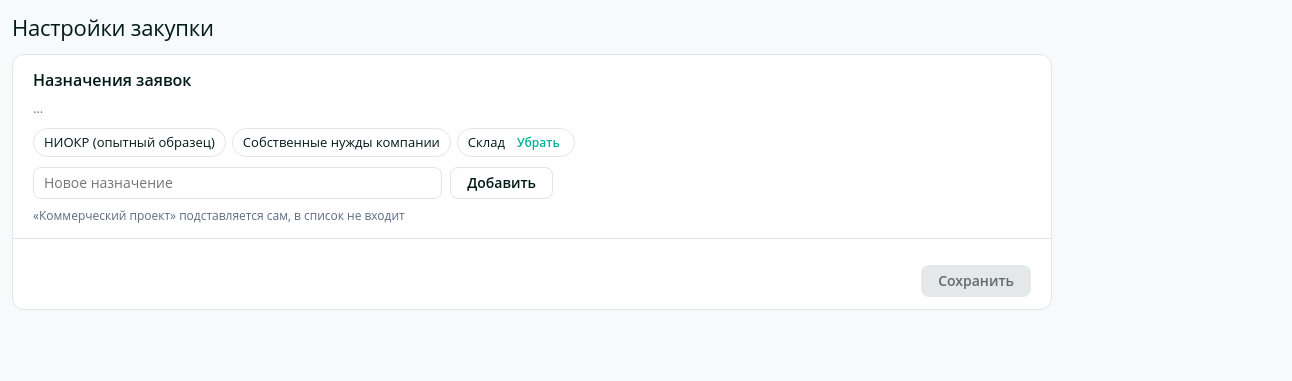
Test case: edits the purposes directory: add, remove, protected RND / FRX stay
Expected: the text "НИОКР (опытный образец)" is shown, x1=44 y1=133 x2=215 y2=151
Expected: the text "Собственные нужды компании" is shown, x1=243 y1=133 x2=440 y2=151
Type "Оснастка и инструмент" into the field labelled "Новое назначение".
click(238, 183); type("Оснастка и инструмент")  # box x1=33 y1=167 x2=442 y2=199
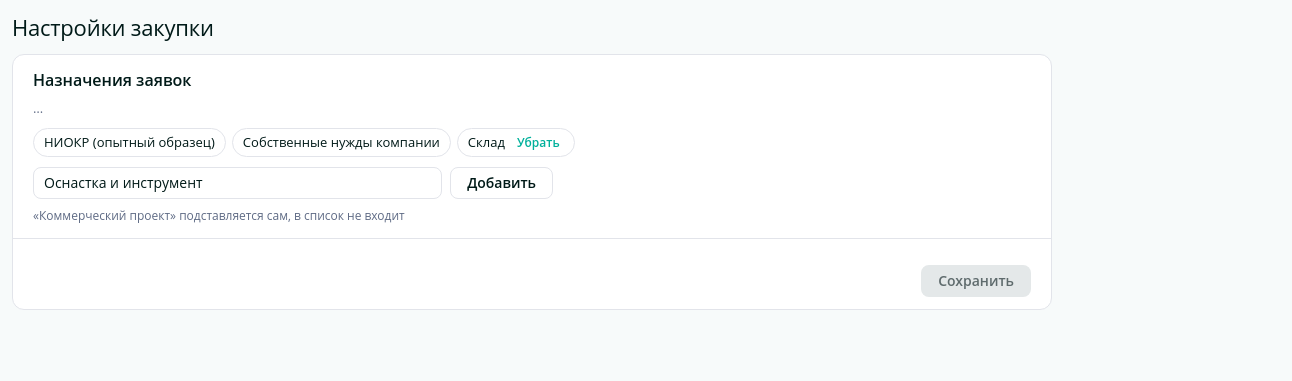
Click the button "Добавить".
click(502, 183)  # box x1=450 y1=167 x2=553 y2=199
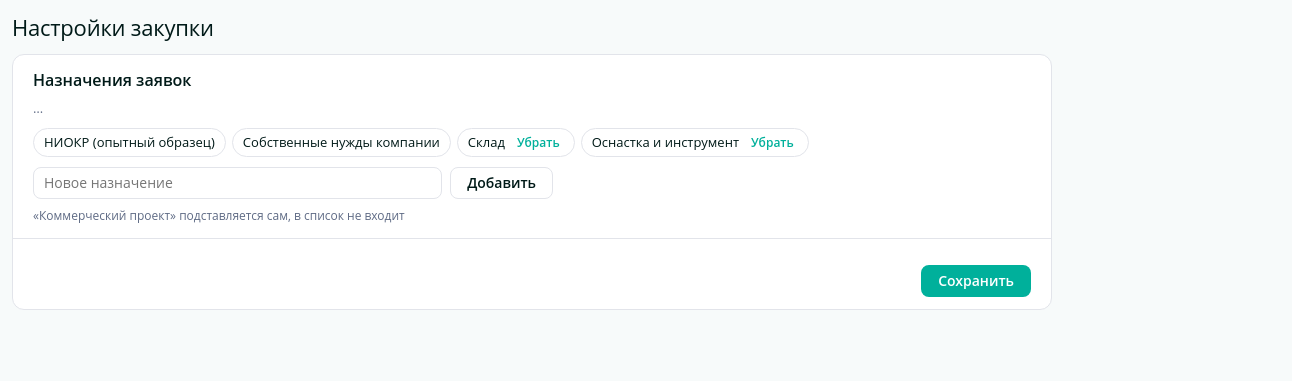
Click the button with aria-label "Убрать назначение Склад".
click(538, 142)  # box x1=513 y1=132 x2=564 y2=153
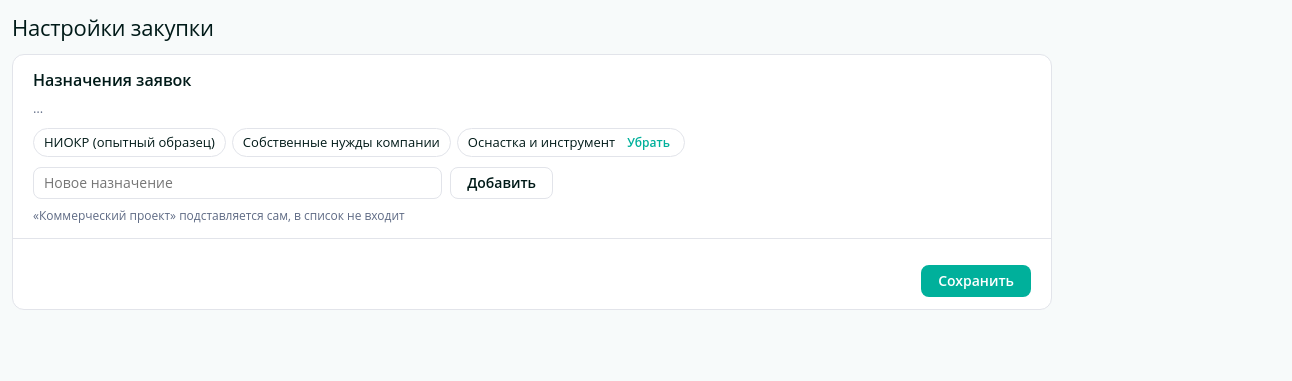
Click the button "Сохранить".
click(976, 281)  # box x1=921 y1=265 x2=1031 y2=297
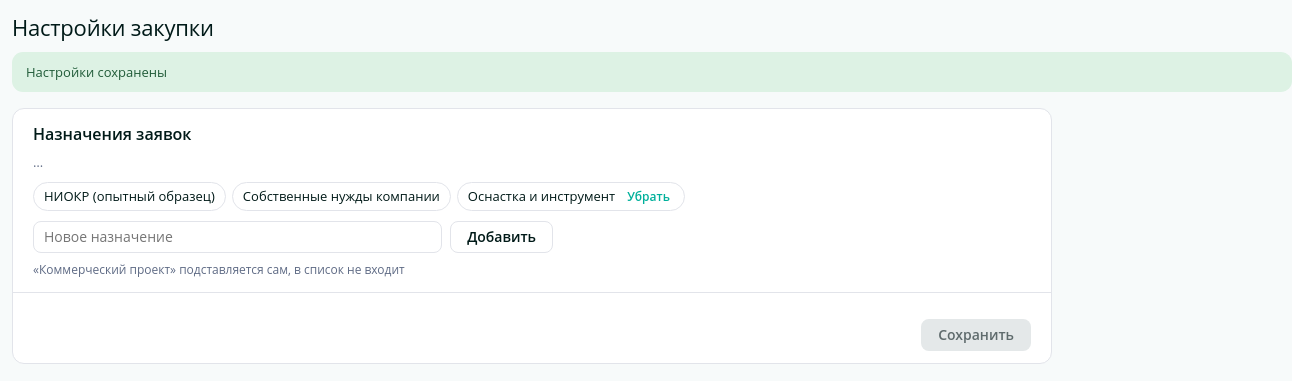
Now the text "Настройки сохранены" is shown, box x1=12 y1=52 x2=1291 y2=92
